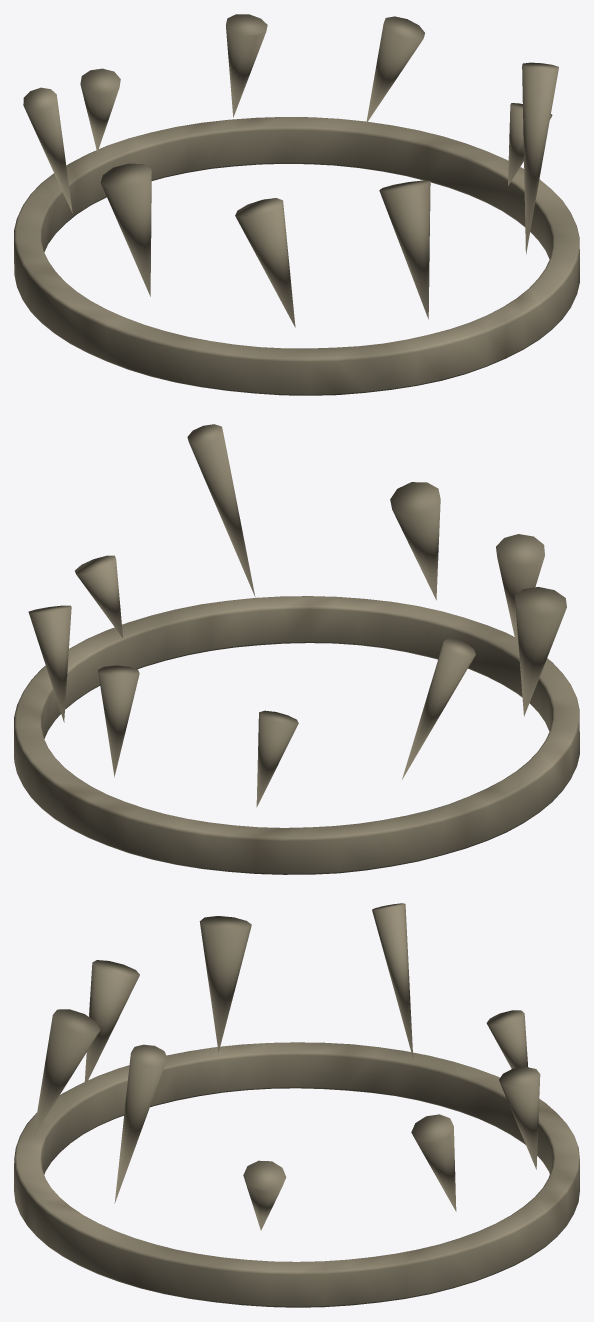
The model's file is head_bone.glb.
3 views of the same model, one above another, from view 1: azimuth 30°, elevation 25°; view 2: azimuth 150°, elevation 25°; view 3: azimuth 270°, elevation 25° (orthographic). The views are drawn at different scales.
Visible parts, largest first — view 1: Cylinder, Cone.006, Cone.004, Cone.003, Cone.005, Cone.001, Cone.007, Cone, Cone.008, Cone.002; view 2: Cylinder, Cone.006, Cone.003, Cone.004, Cone.007, Cone.001, Cone.005, Cone, Cone.008, Cone.002; view 3: Cylinder, Cone.006, Cone.004, Cone.003, Cone.005, Cone.007, Cone.001, Cone, Cone.002, Cone.008.
Boxes of the visible parts, left/top/right/bottom form: Cylinder: left=14, top=117, right=579, bottom=395; Cone.006: left=100, top=163, right=151, bottom=296; Cone.004: left=379, top=180, right=430, bottom=319; Cone.003: left=522, top=62, right=558, bottom=254; Cone.005: left=235, top=198, right=295, bottom=327; Cone.001: left=366, top=16, right=424, bottom=123; Cone.007: left=23, top=87, right=72, bottom=213; Cone: left=226, top=14, right=267, bottom=117; Cone.008: left=80, top=68, right=120, bottom=152; Cone.002: left=508, top=103, right=552, bottom=185; Cylinder: left=14, top=596, right=579, bottom=874; Cone.006: left=515, top=587, right=566, bottom=716; Cone.003: left=187, top=424, right=255, bottom=597; Cone.004: left=390, top=482, right=440, bottom=600; Cone.007: left=402, top=638, right=475, bottom=779; Cone.001: left=28, top=605, right=71, bottom=722; Cone.005: left=496, top=534, right=544, bottom=646; Cone: left=98, top=665, right=139, bottom=777; Cone.008: left=256, top=710, right=298, bottom=807; Cone.002: left=75, top=555, right=122, bottom=637; Cylinder: left=14, top=1042, right=579, bottom=1307; Cone.006: left=199, top=916, right=251, bottom=1052; Cone.004: left=33, top=1009, right=100, bottom=1136; Cone.003: left=114, top=1044, right=167, bottom=1203; Cone.005: left=84, top=960, right=139, bottom=1087; Cone.007: left=372, top=903, right=413, bottom=1058; Cone.001: left=411, top=1114, right=456, bottom=1211; Cone: left=499, top=1067, right=540, bottom=1169; Cone.002: left=243, top=1160, right=286, bottom=1230; Cone.008: left=486, top=1010, right=527, bottom=1068.
Size of the model in its own units: 2.44 by 1.1 by 2.53.
